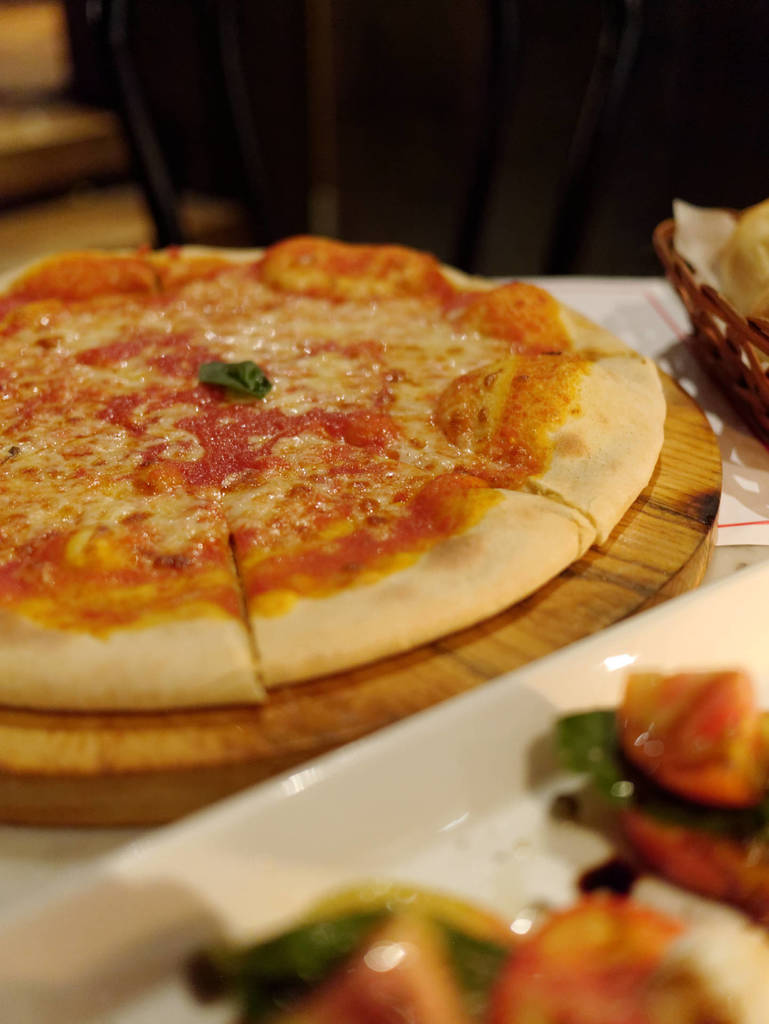Pizza: (21, 219, 672, 710)
